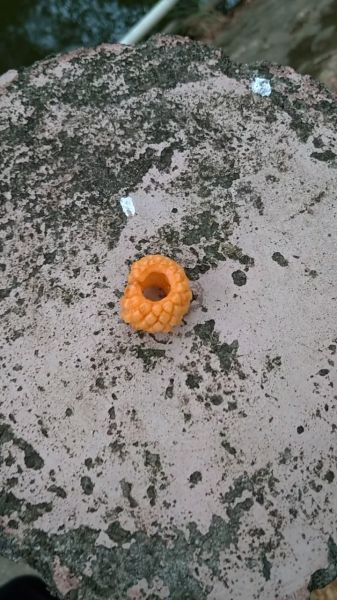eggs: (115, 250, 200, 339)
